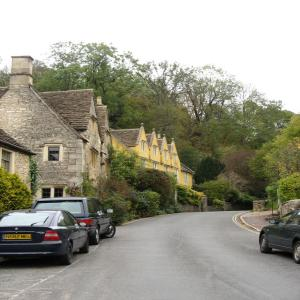Vehicle-registration-plate: (2, 235, 32, 241)
